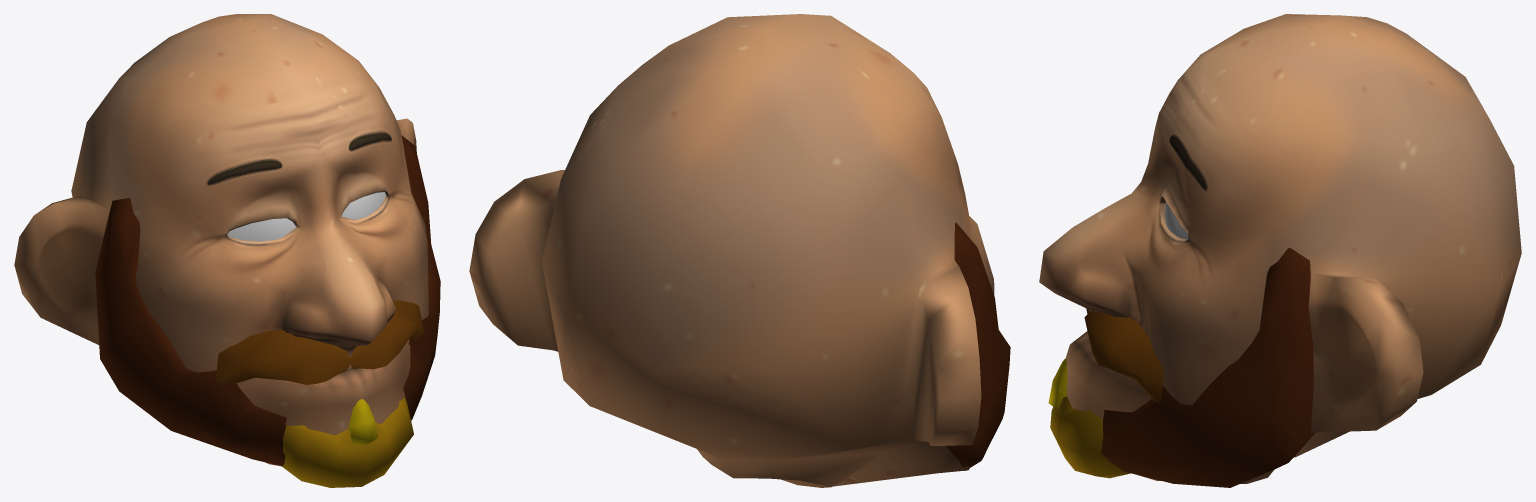
File: E_sitpose06.fbx
3 renders of one model, left to right at view 1: azimuth 30°, elevation 25°; view 2: azimuth 150°, elevation 25°; view 3: azimuth 270°, elevation 25°, orthographic. The views are drawn at different scales.
Visible parts, largest first — view 1: HEAD, BEARD; view 2: HEAD, BEARD; view 3: HEAD, BEARD.
Part boxes in pixels (x1,y1,x2,y2): HEAD: (14,14,428,466); BEARD: (95,135,440,487); HEAD: (469,14,994,487); BEARD: (946,222,1010,470); HEAD: (1039,14,1521,483); BEARD: (1048,248,1315,487).
Size of the model in its own units: 27.45 by 25.16 by 24.9.
